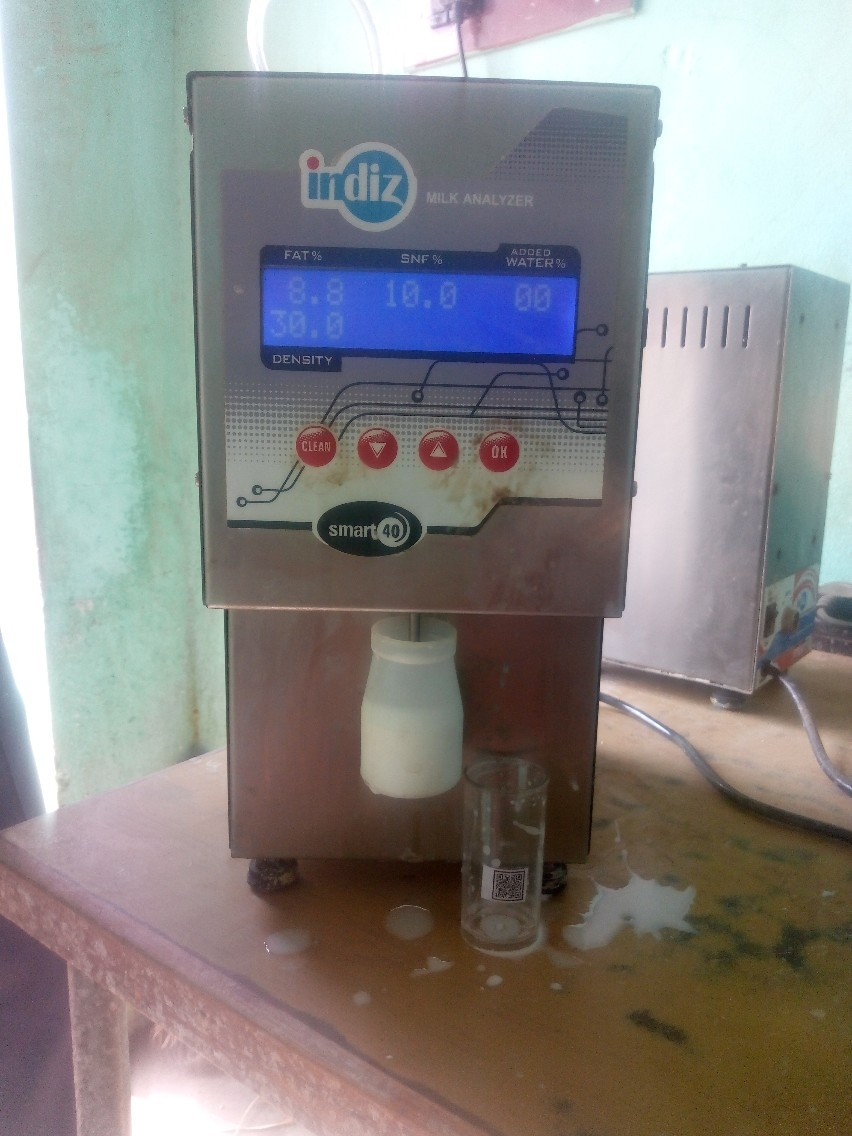lcd: (255, 235, 588, 380)
qr: (479, 863, 533, 909)
